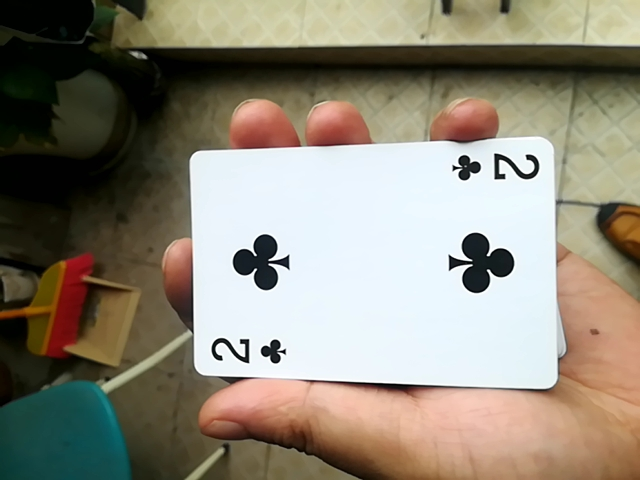mh 2: (178, 137, 559, 397)
